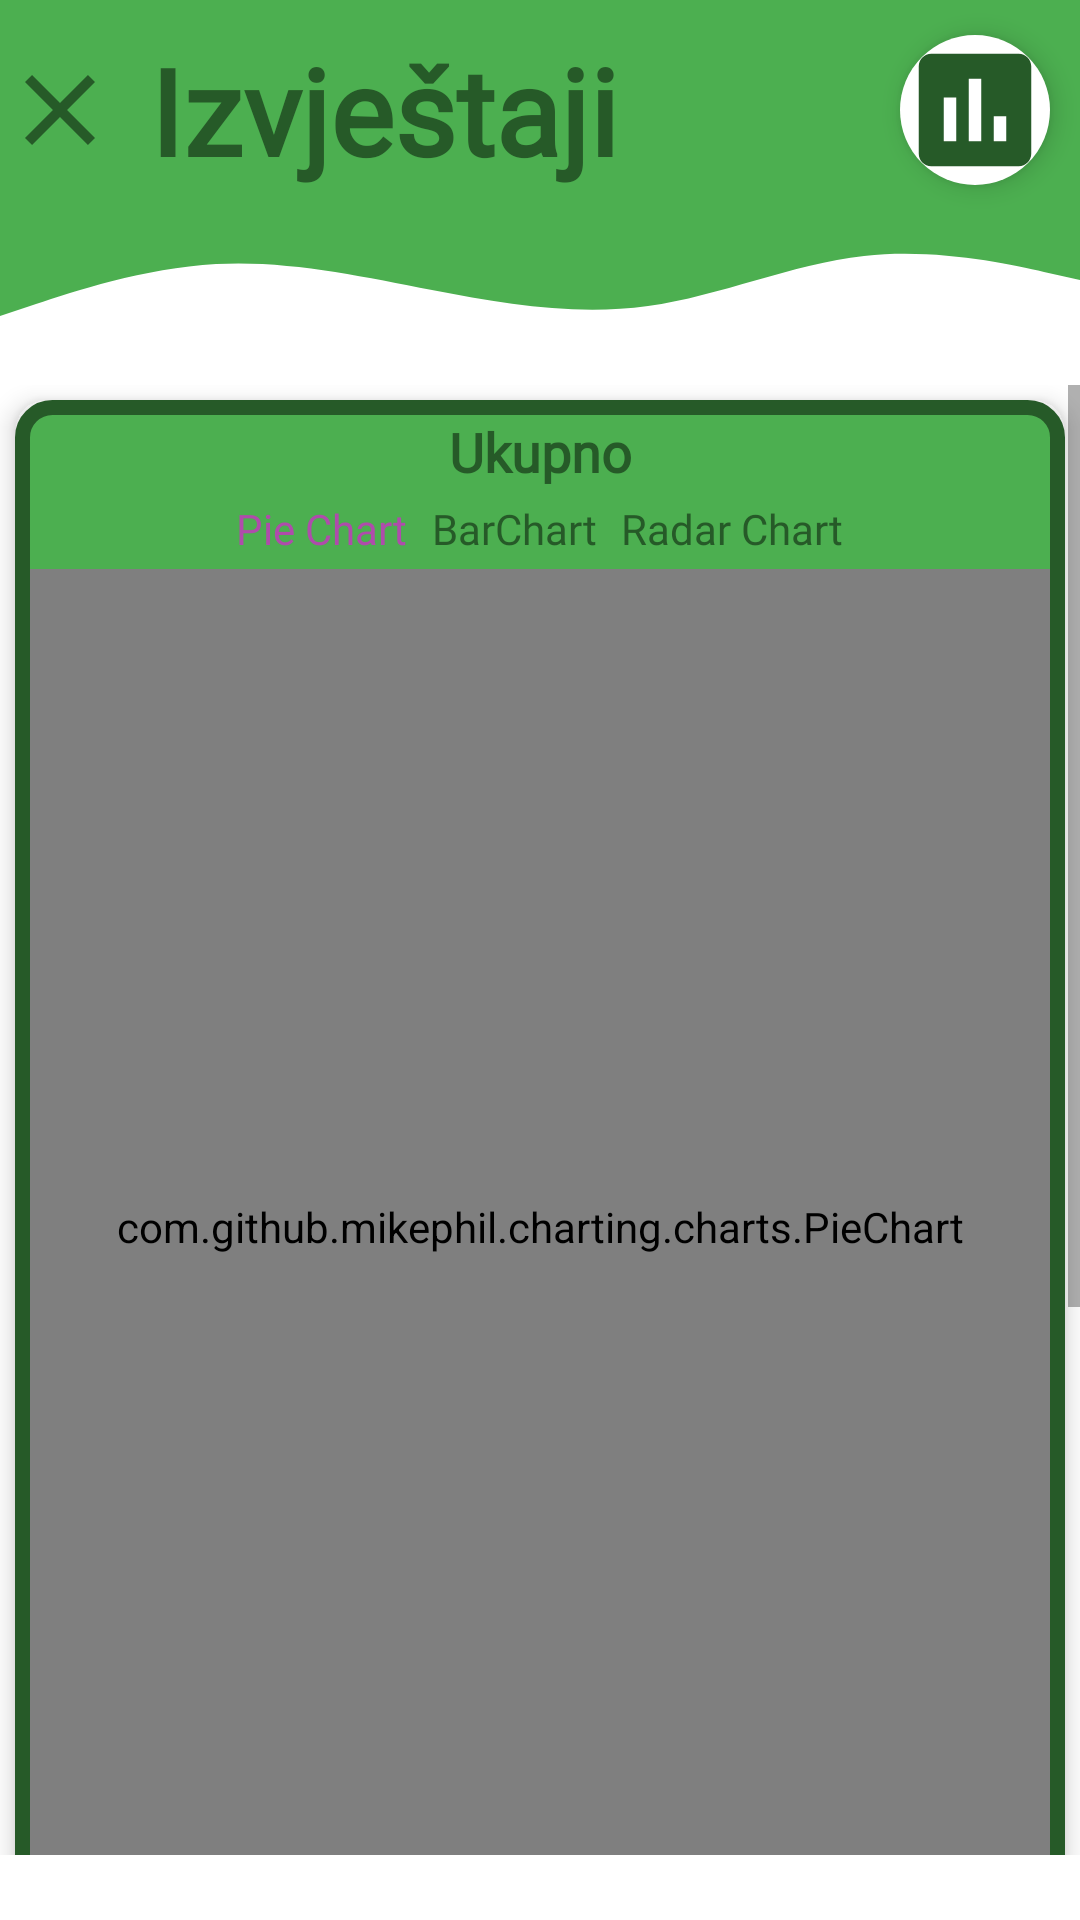

Named icons in this screenshot (1080px×1920px) and their bounding boxes, (x1, y1, x2, y2):
close: (25, 75, 95, 145)
generate report: (900, 35, 1050, 185)
